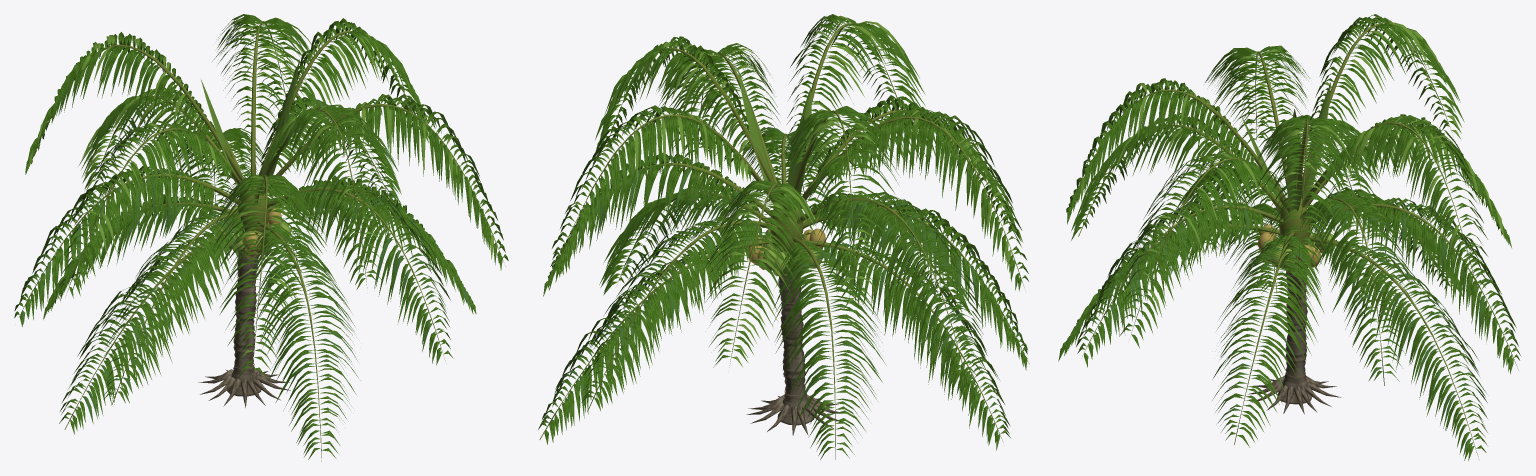
File: KL_LS_Coconut_Juvenile_C_LOD1.gltf
3 views of the same model, side by side, from view 1: azimuth 30°, elevation 25°; view 2: azimuth 150°, elevation 25°; view 3: azimuth 270°, elevation 25° (orthographic). The views are drawn at different scales.
Parts seen in each view (by area): view 1: TF3_KL_LS_Coconut_Juvenile_C_LOD1; view 2: TF3_KL_LS_Coconut_Juvenile_C_LOD1; view 3: TF3_KL_LS_Coconut_Juvenile_C_LOD1.
Boxes of the visible parts, x1=… form: TF3_KL_LS_Coconut_Juvenile_C_LOD1: x1=14, y1=14, x2=508, y2=461; TF3_KL_LS_Coconut_Juvenile_C_LOD1: x1=538, y1=14, x2=1029, y2=459; TF3_KL_LS_Coconut_Juvenile_C_LOD1: x1=1058, y1=14, x2=1521, y2=460.
Bounding box in the file's own units: 5.33 × 4.28 × 5.33.
8 materials, 2 textured.
